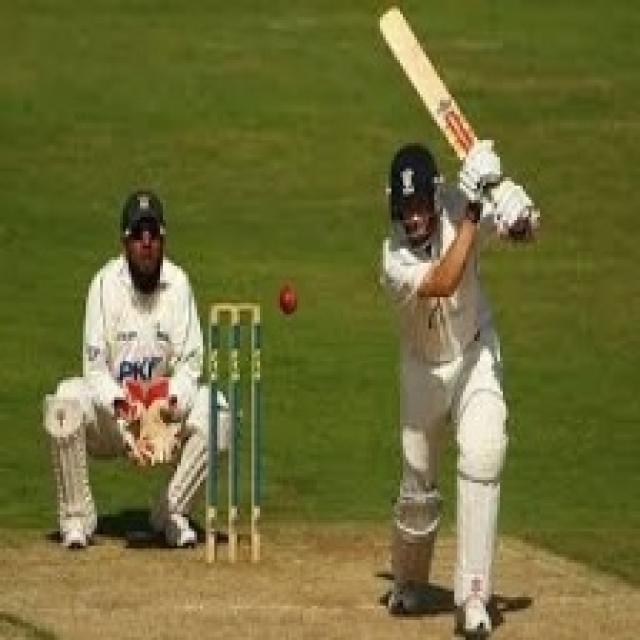batsman: (360, 2, 547, 640)
wicket: (194, 279, 272, 575)
